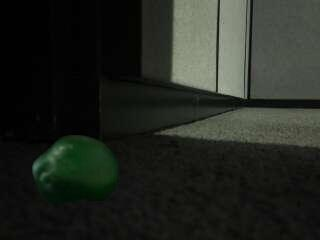Lime: (31, 135, 120, 203)
